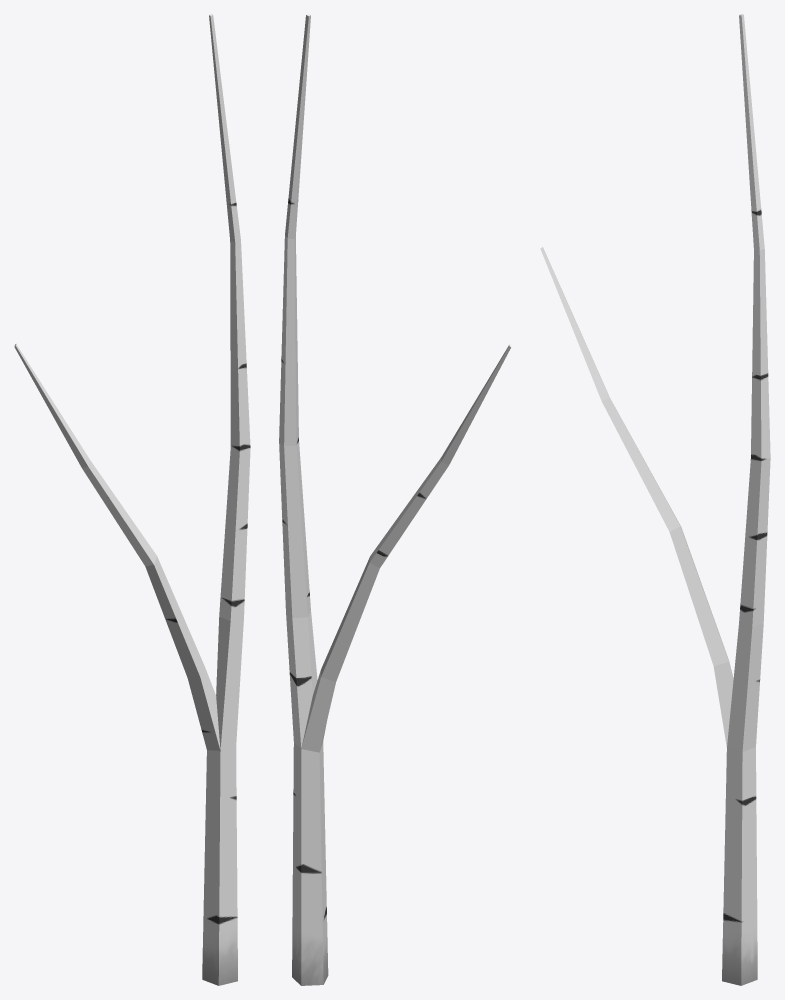
The model's file is Birch_Tree_NoLeaves_m_Snow_04_LOD.fbx.
The picture shows the model from 3 angles, left to right: view 1: azimuth 30°, elevation 25°; view 2: azimuth 150°, elevation 25°; view 3: azimuth 330°, elevation 25°; orthographic projection.
Parts seen in each view (by area): view 1: Birch_Tree_NoLeaves_m_Snow_04_LOD0; view 2: Birch_Tree_NoLeaves_m_Snow_04_LOD0; view 3: Birch_Tree_NoLeaves_m_Snow_04_LOD0.
Boxes of the visible parts, x1,y1,x2,y2 form: Birch_Tree_NoLeaves_m_Snow_04_LOD0: (14,14,250,985); Birch_Tree_NoLeaves_m_Snow_04_LOD0: (279,14,511,985); Birch_Tree_NoLeaves_m_Snow_04_LOD0: (540,14,770,985).
Size of what is drawn, in the model's own units: 175 by 694 by 22.51.
